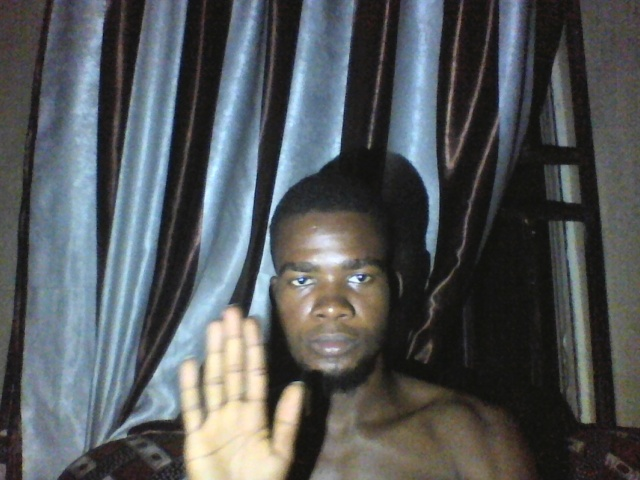hello: (176, 301, 309, 480)
